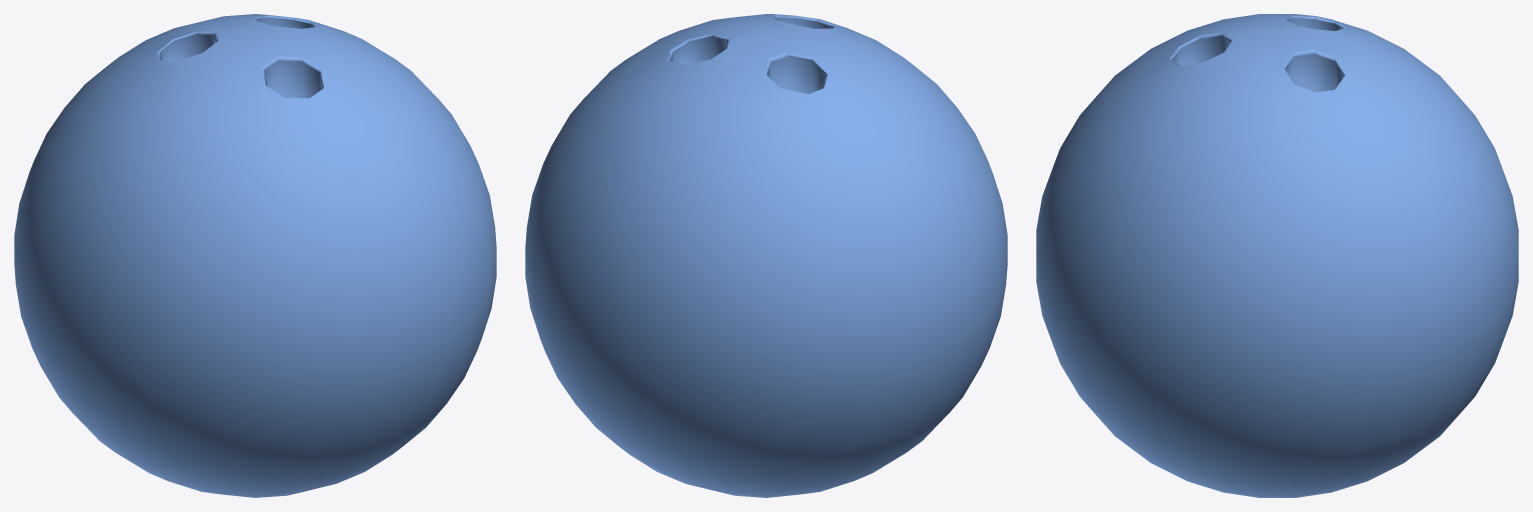
The model's file is bowling_ball.glb.
3 renders of one model, left to right at view 1: azimuth 30°, elevation 25°; view 2: azimuth 150°, elevation 25°; view 3: azimuth 270°, elevation 25°, orthographic.
Parts seen in each view (by area): view 1: Bowling Ball; view 2: Bowling Ball; view 3: Bowling Ball.
Boxes of the visible parts, bbox=[...] form: Bowling Ball: bbox=[14, 14, 496, 497]; Bowling Ball: bbox=[525, 14, 1007, 497]; Bowling Ball: bbox=[1036, 14, 1518, 497].
Bounding box in the file's own units: 0.4 × 0.4 × 0.4.
